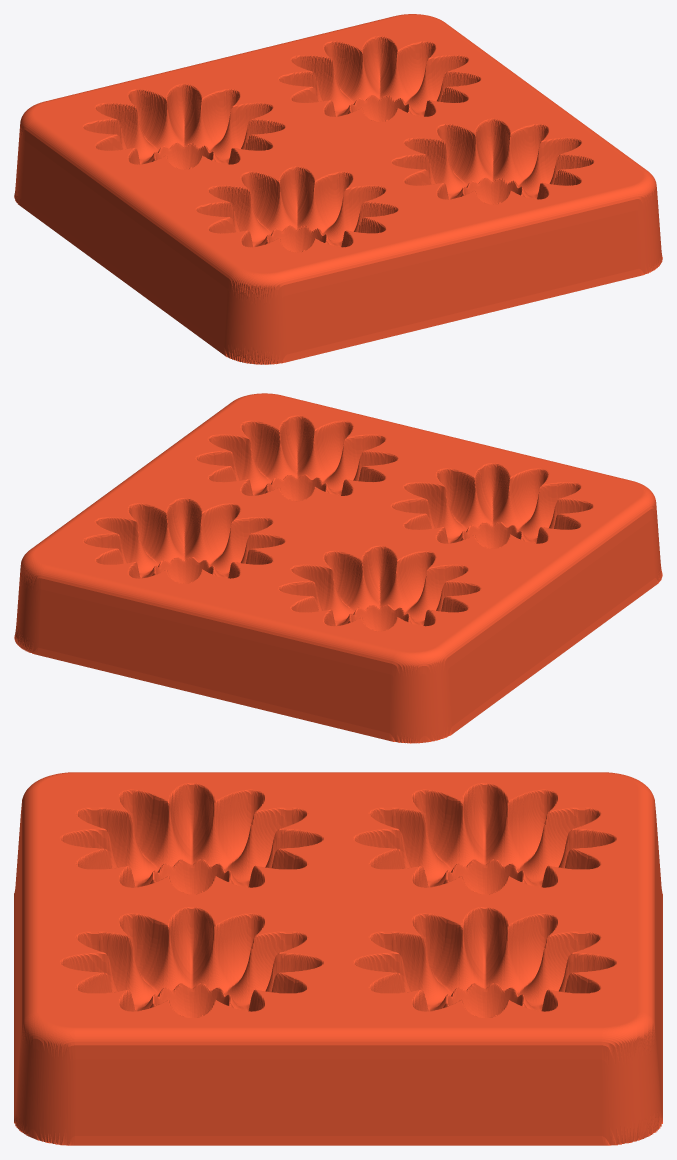
Rendered from mold.glb.
3 views of the same model, one above another, from view 1: azimuth 30°, elevation 25°; view 2: azimuth 150°, elevation 25°; view 3: azimuth 270°, elevation 25° (orthographic). The views are drawn at different scales.
Parts seen in each view (by area): view 1: geometry_0; view 2: geometry_0; view 3: geometry_0.
Part boxes in pixels (box(x1,y1,x2,y2)): geometry_0: box(14, 14, 662, 364); geometry_0: box(14, 393, 662, 743); geometry_0: box(14, 772, 662, 1145).
Size of the model in its own units: 0.0952 by 0.0175 by 0.0952.
